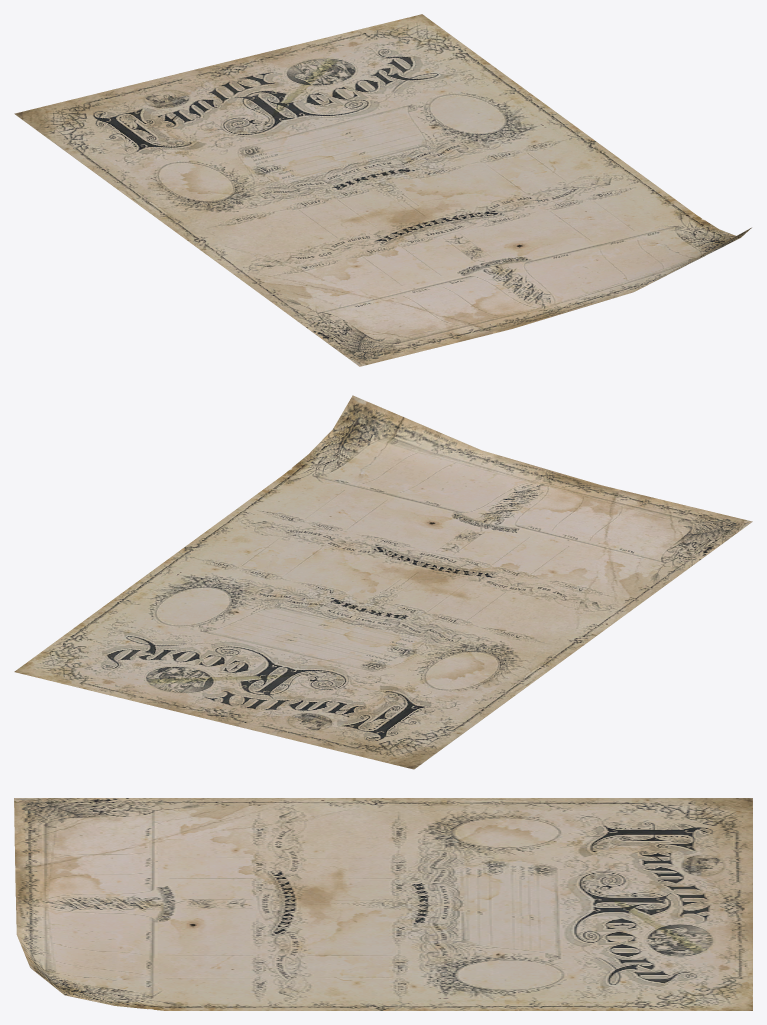
Rendered from Paper.fbx.
3 renders of one model, top to bottom at view 1: azimuth 30°, elevation 25°; view 2: azimuth 150°, elevation 25°; view 3: azimuth 270°, elevation 25°, orthographic. The views are drawn at different scales.
Visible parts, largest first — view 1: Mesh_Manuscript_03_LOD0; view 2: Mesh_Manuscript_03_LOD0; view 3: Mesh_Manuscript_03_LOD0.
Part boxes in pixels (box(x1,y1,x2,y2)): Mesh_Manuscript_03_LOD0: box(14, 14, 751, 366); Mesh_Manuscript_03_LOD0: box(14, 395, 752, 769); Mesh_Manuscript_03_LOD0: box(14, 798, 752, 1010).
Size of the model in its own units: 23.62 by 2.02 by 34.64.
